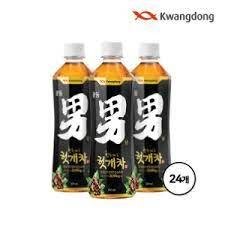heotgaecha: (90, 40, 138, 199), (130, 40, 172, 194), (51, 41, 91, 194)
